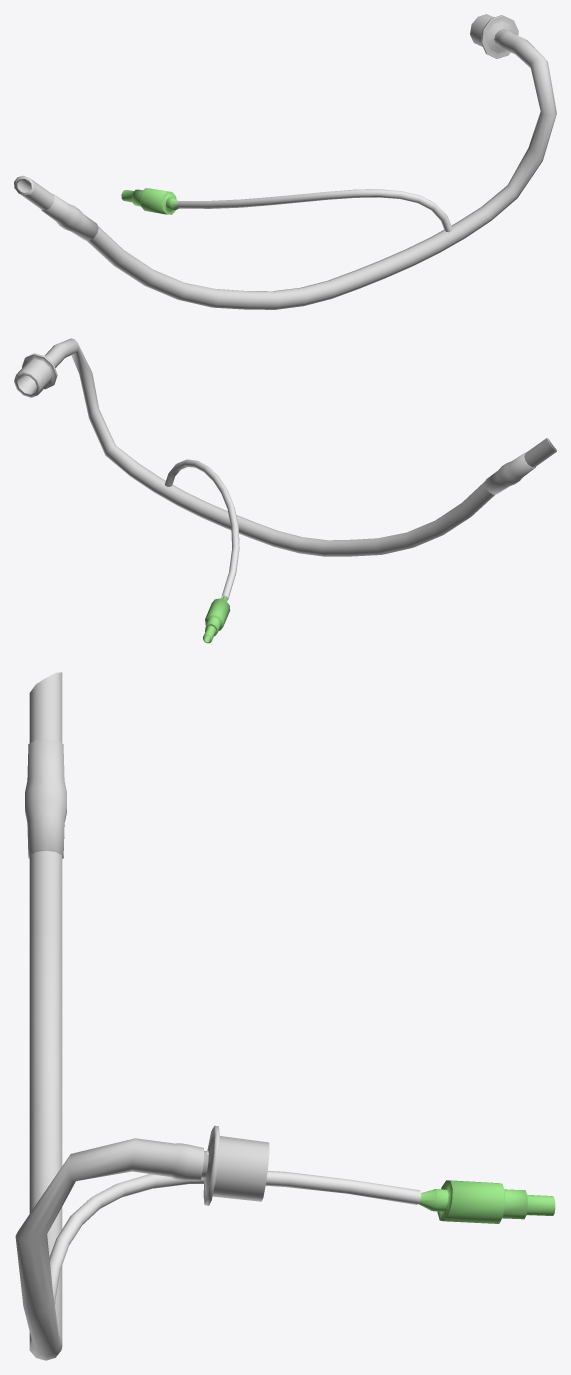
File: Carlens_Arc_bent.fbx
3 views of the same model, one above another, from view 1: azimuth 30°, elevation 25°; view 2: azimuth 150°, elevation 25°; view 3: azimuth 270°, elevation 25° (orthographic). The views are drawn at different scales.
Parts seen in each view (by area): view 1: Tube_Carlens_Arc, SmallTube, Tube_Carlens_Arc.001; view 2: Tube_Carlens_Arc, SmallTube, Tube_Carlens_Arc.001; view 3: Tube_Carlens_Arc, SmallTube, Tube_Carlens_Arc.001.
Part boxes in pixels (bbox=[...]): Tube_Carlens_Arc: bbox=[14, 14, 556, 309]; SmallTube: bbox=[177, 189, 452, 232]; Tube_Carlens_Arc.001: bbox=[121, 188, 178, 214]; Tube_Carlens_Arc: bbox=[14, 338, 556, 556]; SmallTube: bbox=[165, 459, 239, 600]; Tube_Carlens_Arc.001: bbox=[203, 595, 230, 643]; Tube_Carlens_Arc: bbox=[15, 672, 269, 1360]; SmallTube: bbox=[49, 1170, 421, 1304]; Tube_Carlens_Arc.001: bbox=[418, 1180, 555, 1223].
Size of the model in its own units: 365 by 124 by 173.
